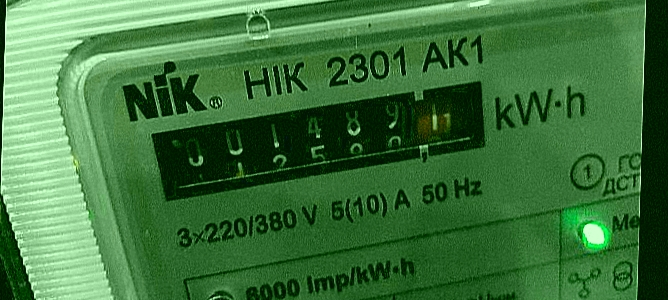0: (217, 122, 244, 159), (179, 135, 204, 171)
1: (421, 96, 441, 135), (261, 119, 282, 151)
4: (300, 111, 323, 142)
8: (340, 104, 362, 140)
9: (379, 99, 400, 131)
screen: (135, 62, 514, 224)
